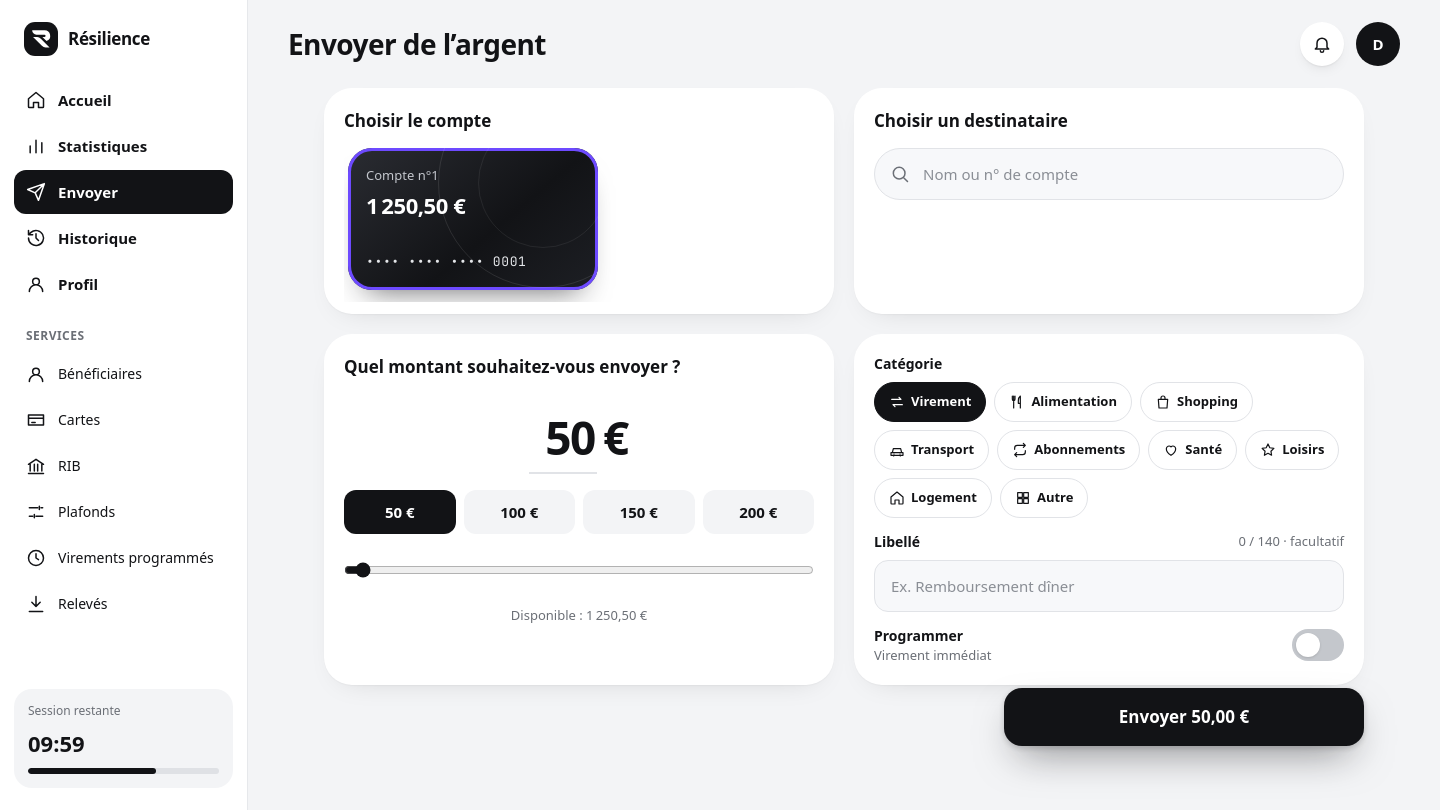
Front - revue complète › passerelle 502 : statut inconnu, jamais « Réessayer » (double débit)
In the search field named "Rechercher un destinataire par nom ou numéro de compte": (1109, 174) x1=874 y1=148 x2=1344 y2=200, type "77"
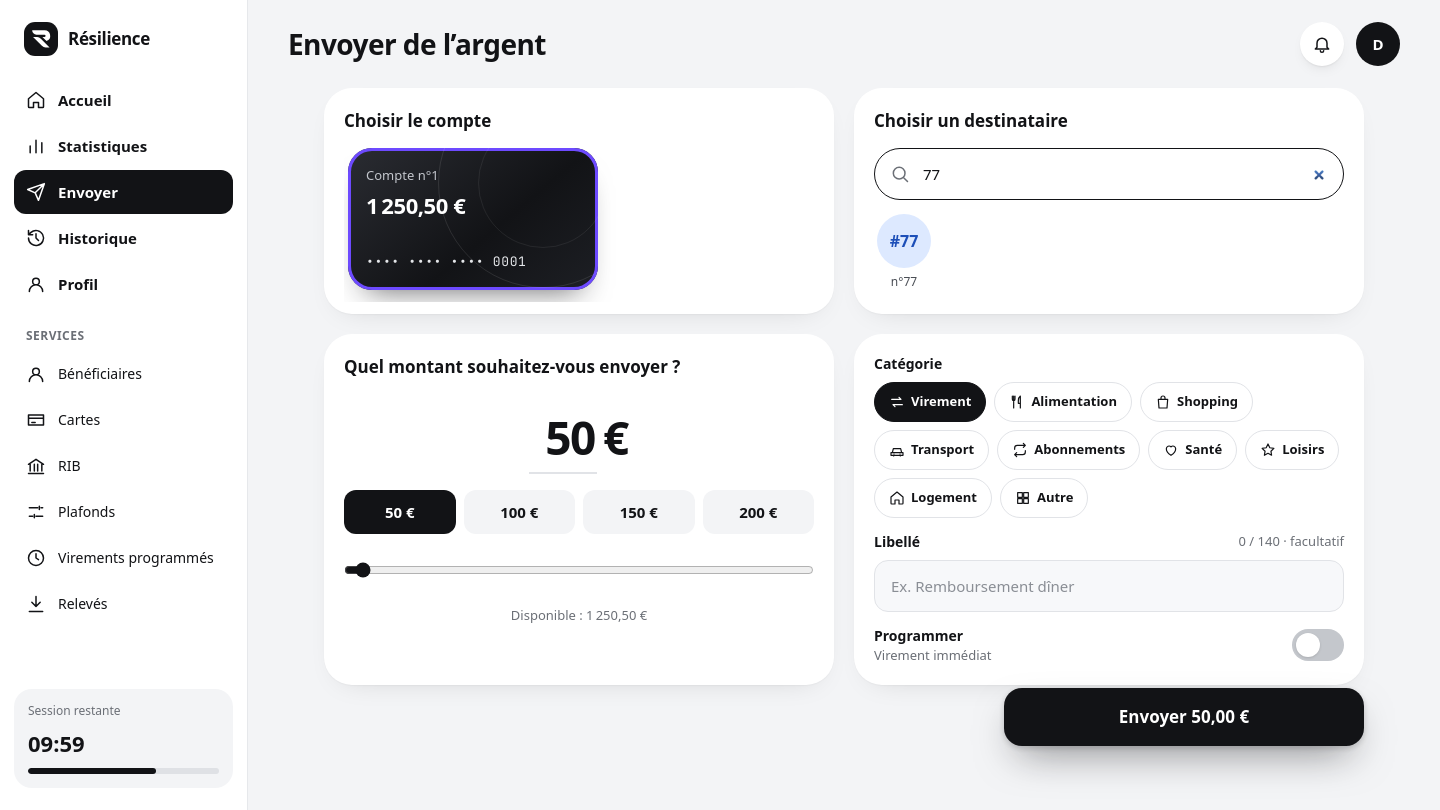
Click the button named "Compte n°77": (904, 252) x1=874 y1=214 x2=934 y2=290
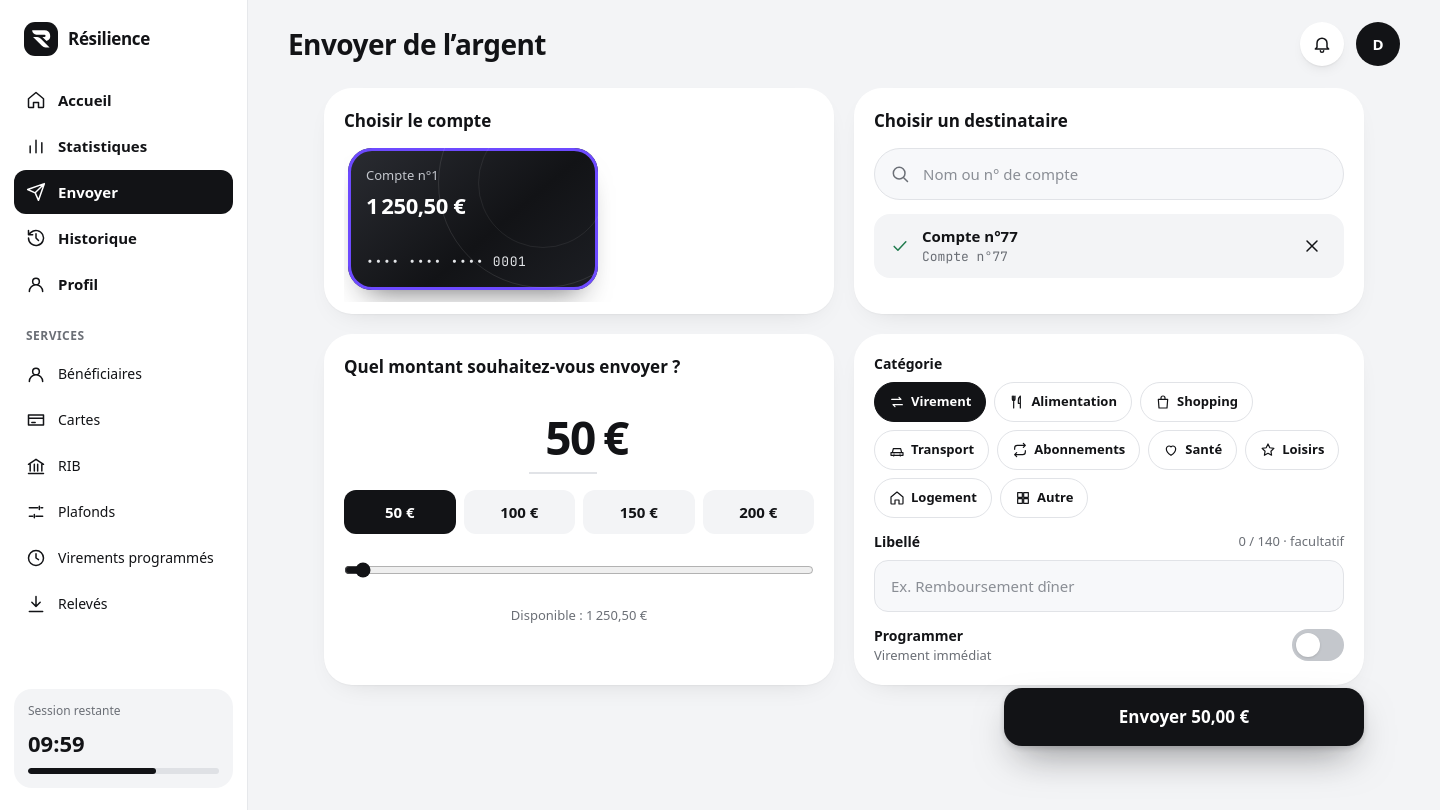
Clear the field named "Montant en euros": (563, 438) x1=529 y1=403 x2=597 y2=474
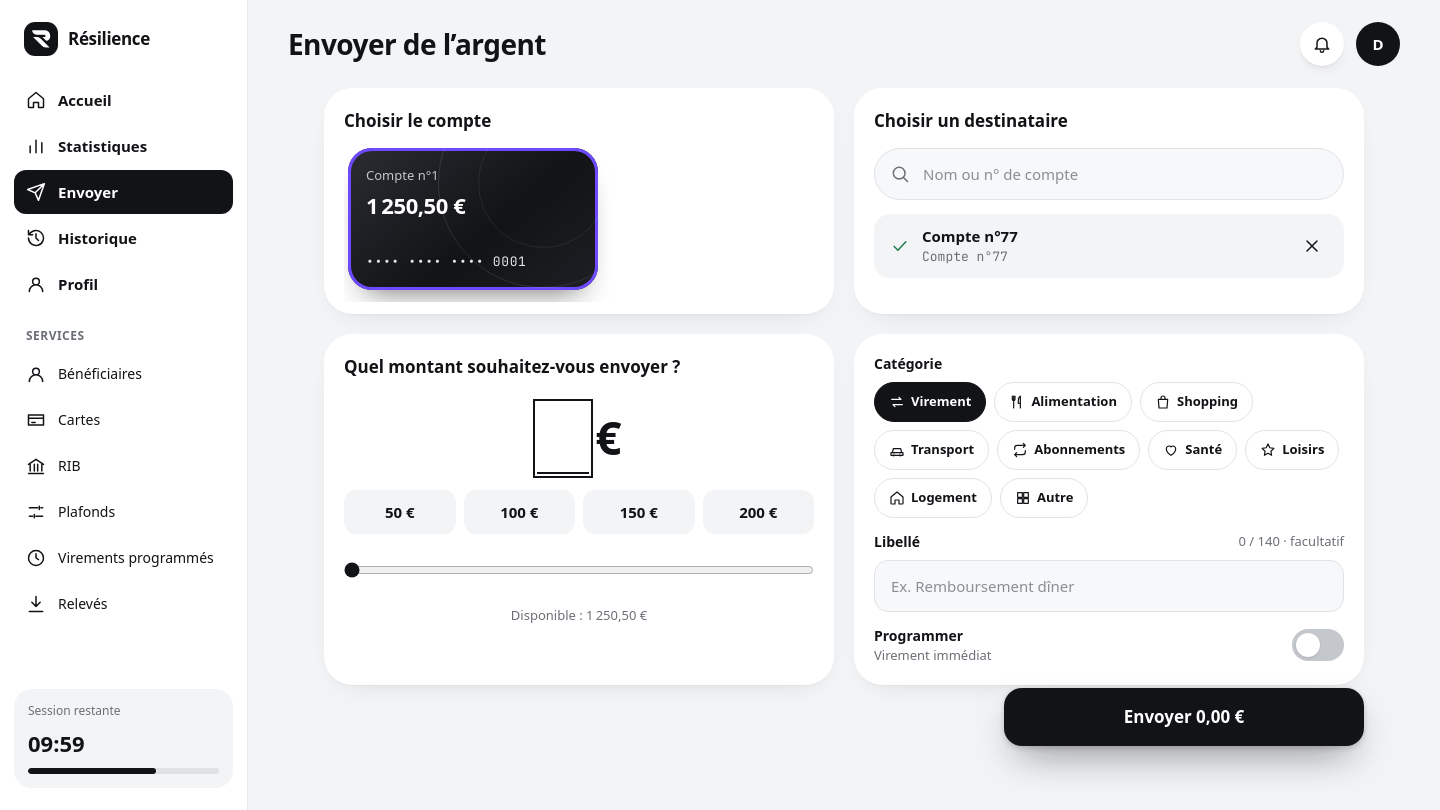
In the field named "Montant en euros": (563, 438) x1=536 y1=403 x2=589 y2=474, type "10"
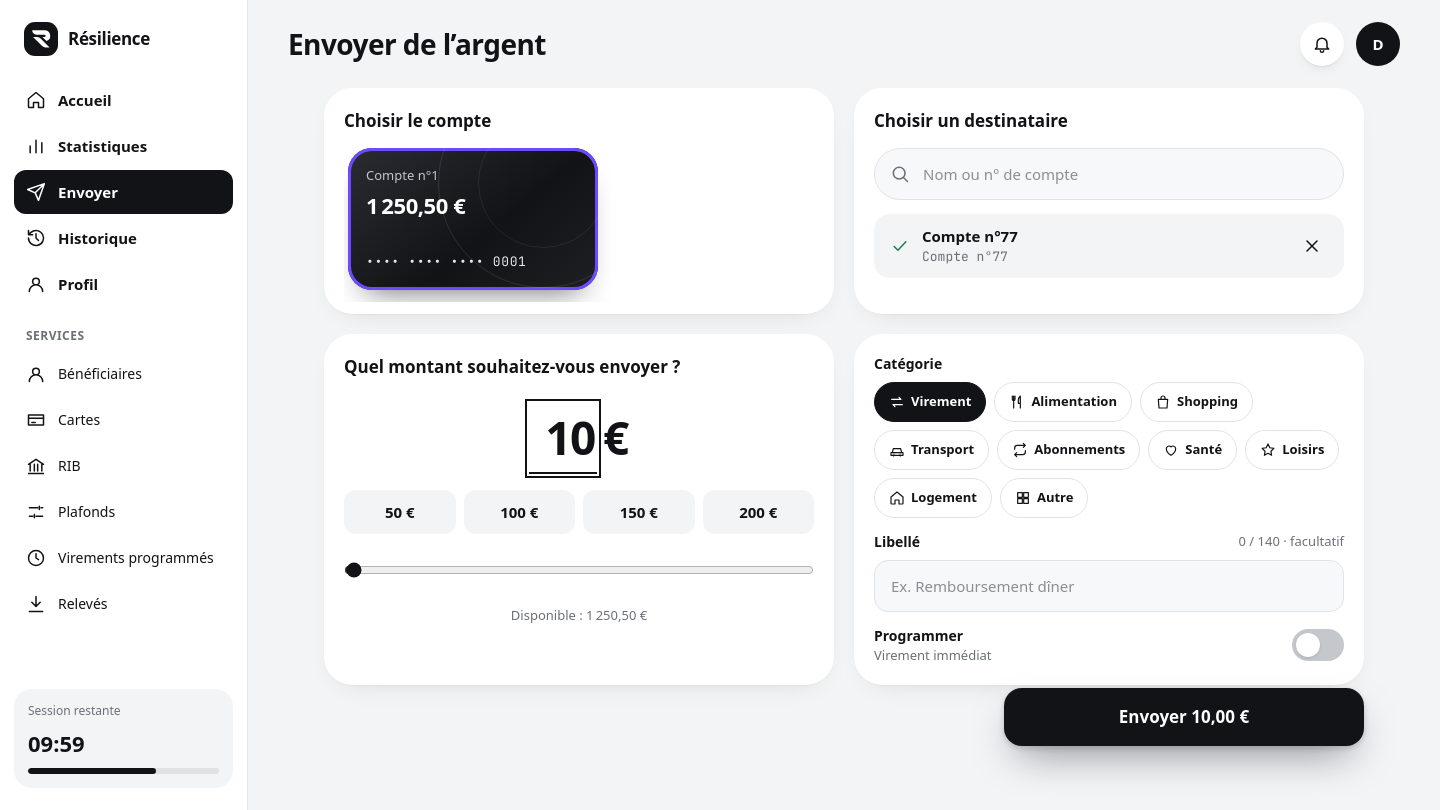
Click the button "Envoyer 10,00 €": (1184, 717) x1=1004 y1=688 x2=1364 y2=746
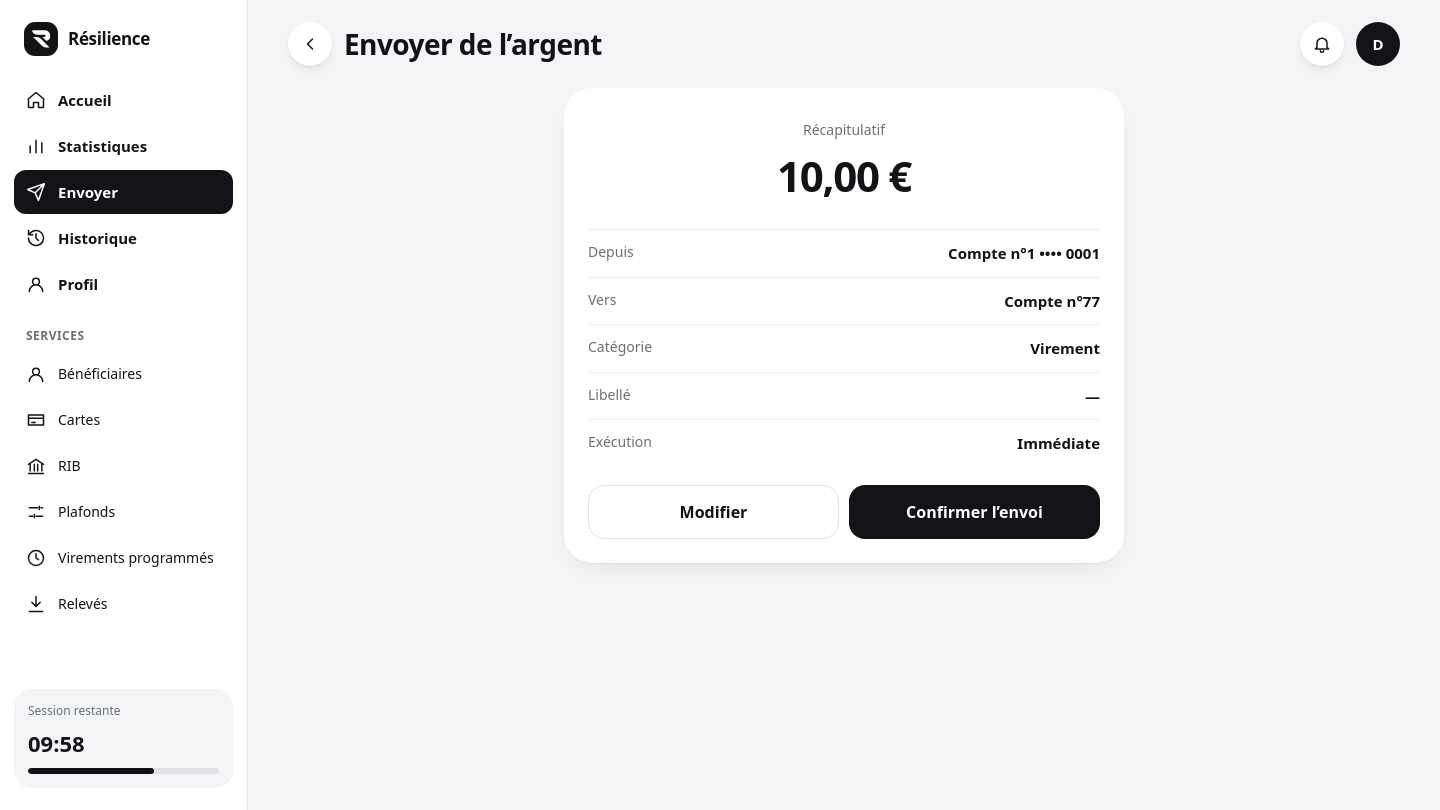
Click the button "Confirmer l’envoi": (974, 512) x1=849 y1=484 x2=1100 y2=538
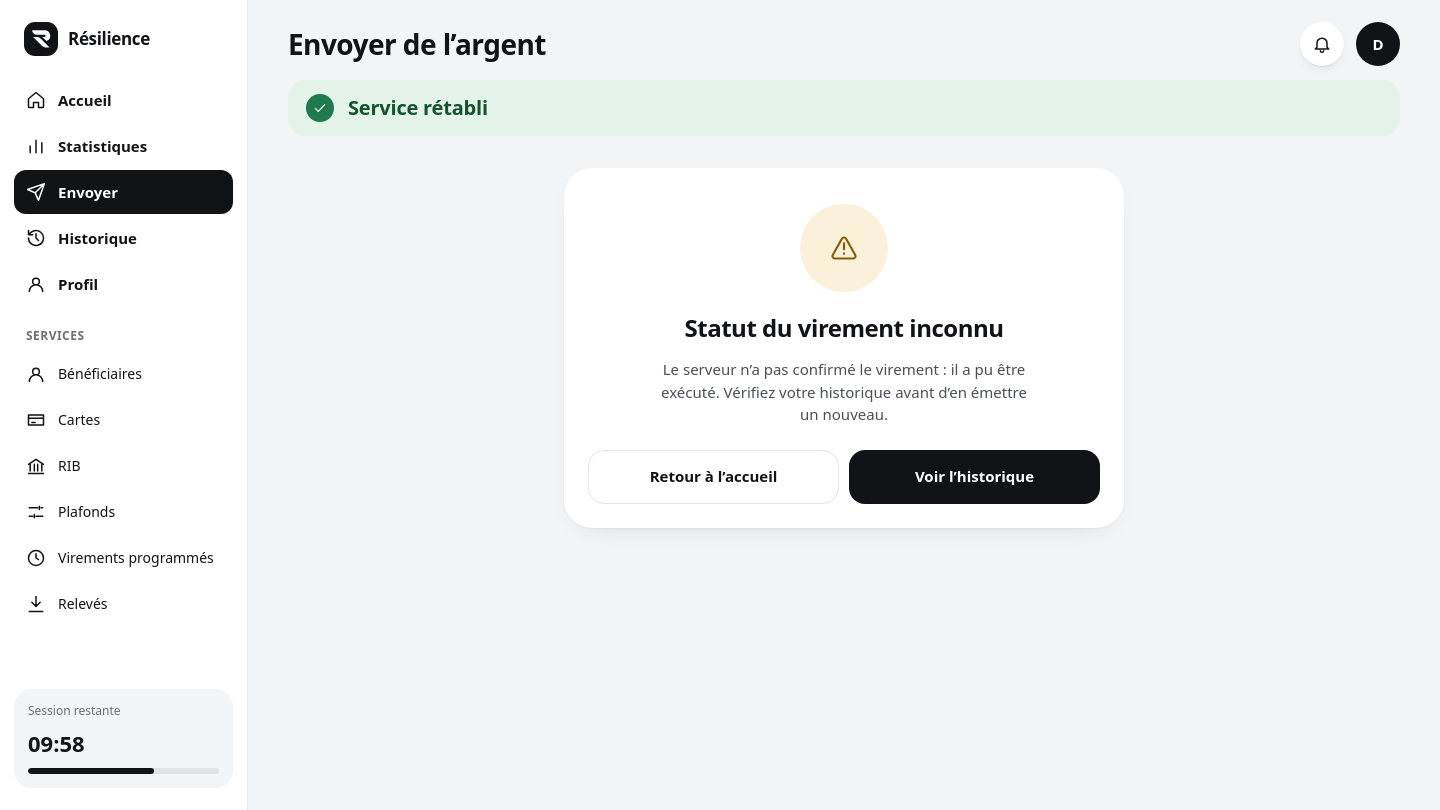
Expected: the heading "Statut du virement inconnu" is shown, x1=684 y1=312 x2=1004 y2=344
